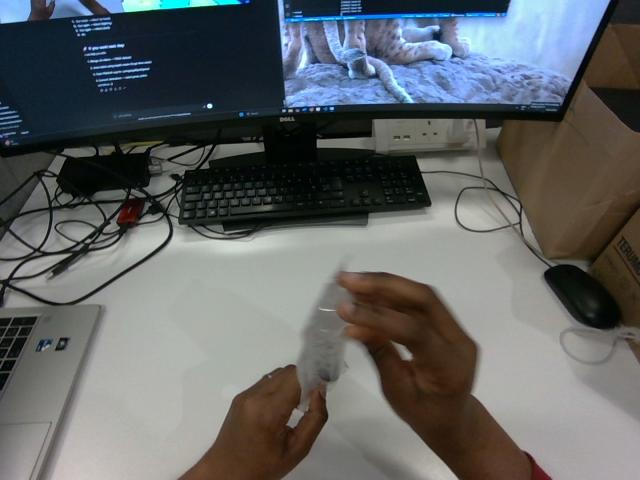syringe: (297, 279, 351, 408)
